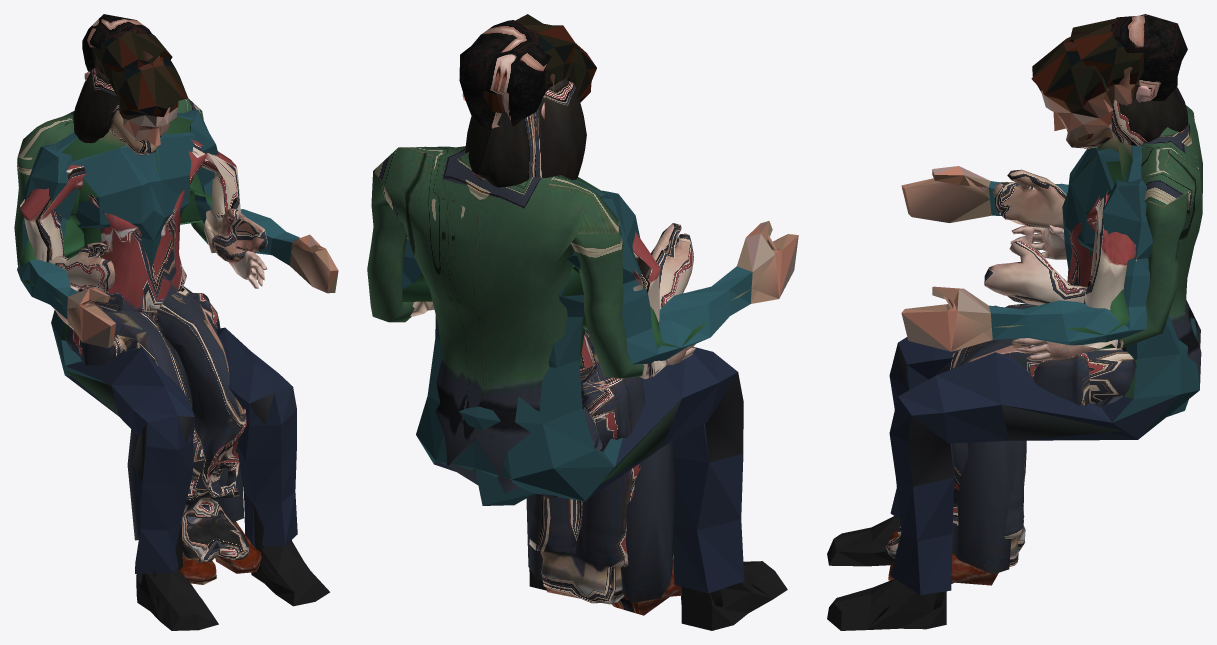
The model's file is orang.glb.
The picture shows the model from 3 angles, left to right: view 1: azimuth 30°, elevation 25°; view 2: azimuth 150°, elevation 25°; view 3: azimuth 270°, elevation 25°; orthographic projection. The views are drawn at different scales.
Visible parts, largest first — view 1: MC, Wanita_A_leg, Wanita_A_tor, PS1L_A, MC_tidur, Pria_A_tor, Wanita_A_head, Pria_A_leg, Pria_A_head; view 2: Pria_A_tor, MC, Wanita_A_leg, Pria_A_leg, Wanita_A_head, Pria_A_head, PS1L_A, Wanita_A_tor, MC_tidur; view 3: MC, Pria_A_tor, Wanita_A_tor, PS1L_A, Wanita_A_leg, Pria_A_leg, MC_tidur, Pria_A_head, Wanita_A_head.
Part boxes in pixels (<box>): MC: <box>17,31,338,630</box>; Wanita_A_leg: <box>65,286,248,563</box>; Wanita_A_tor: <box>20,140,267,323</box>; PS1L_A: <box>19,49,330,619</box>; MC_tidur: <box>109,57,187,145</box>; Pria_A_tor: <box>14,98,267,329</box>; Wanita_A_head: <box>73,68,158,154</box>; Pria_A_leg: <box>80,358,261,584</box>; Pria_A_head: <box>82,14,151,81</box>; Pria_A_tor: <box>367,146,695,478</box>; MC: <box>400,14,798,630</box>; Wanita_A_leg: <box>529,333,673,604</box>; Pria_A_leg: <box>445,429,681,615</box>; Wanita_A_head: <box>465,79,586,187</box>; Pria_A_head: <box>459,20,551,129</box>; PS1L_A: <box>402,23,785,606</box>; Wanita_A_tor: <box>410,223,693,443</box>; MC_tidur: <box>565,43,596,102</box>; MC: <box>827,18,1199,630</box>; Pria_A_tor: <box>1010,105,1202,385</box>; Wanita_A_tor: <box>984,145,1136,348</box>; PS1L_A: <box>844,32,1137,628</box>; Wanita_A_leg: <box>885,303,1136,566</box>; Pria_A_leg: <box>888,403,1106,585</box>; MC_tidur: <box>1031,37,1116,141</box>; Pria_A_head: <box>1110,14,1187,102</box>; Wanita_A_head: <box>1066,87,1188,147</box>.
Bounding box in the file's own units: 0.7427 × 1.45 × 0.8667.
Materials: 7 (6 with a texture image).
